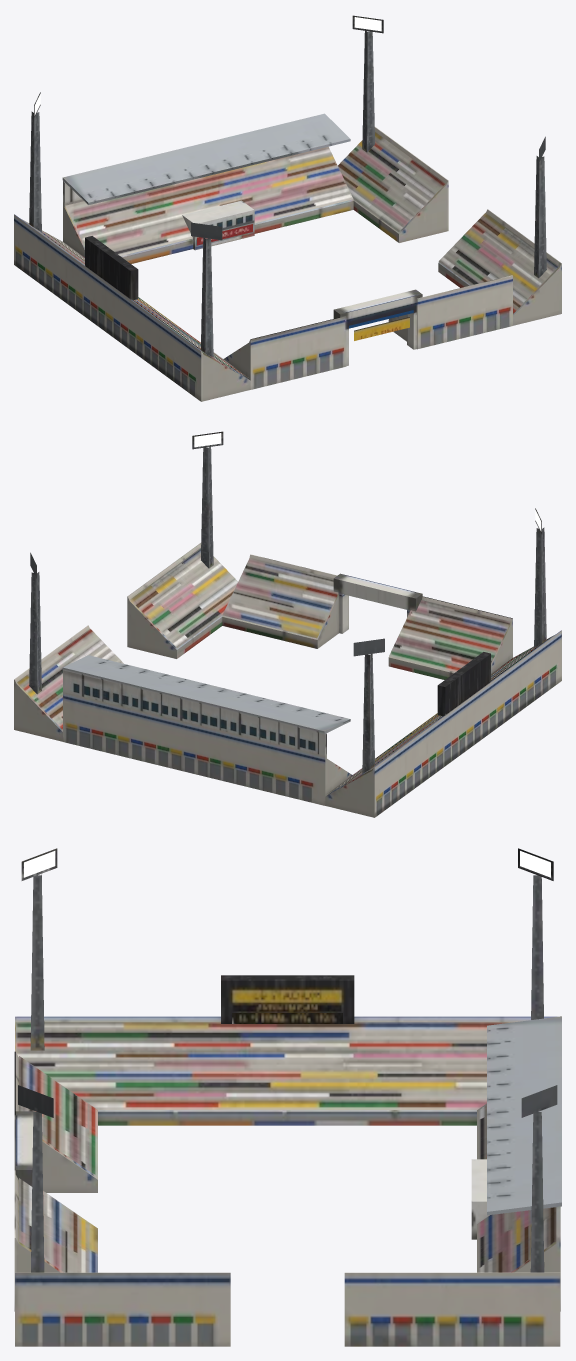
File: lb_stadium.glb
The picture shows the model from 3 angles, top to bottom: view 1: azimuth 30°, elevation 25°; view 2: azimuth 150°, elevation 25°; view 3: azimuth 270°, elevation 25°; orthographic projection. The views are drawn at different scales.
Parts seen in each view (by area): view 1: lb_stadium_body, var_match; view 2: lb_stadium_body, var_match; view 3: lb_stadium_body, var_match, lb_lamps.
Part boxes in pixels (left/top/right/bottom): lb_stadium_body: left=14, top=15, right=561, bottom=401; var_match: left=21, top=132, right=558, bottom=377; lb_stadium_body: left=14, top=431, right=561, bottom=817; var_match: left=17, top=548, right=554, bottom=793; lb_stadium_body: left=14, top=848, right=561, bottom=1346; var_match: left=15, top=1013, right=556, bottom=1272; lb_lamps: left=24, top=851, right=550, bottom=877.
Bounding box in the file's own units: 221 × 98.8 × 200.
Materials: 3 (2 with a texture image).
